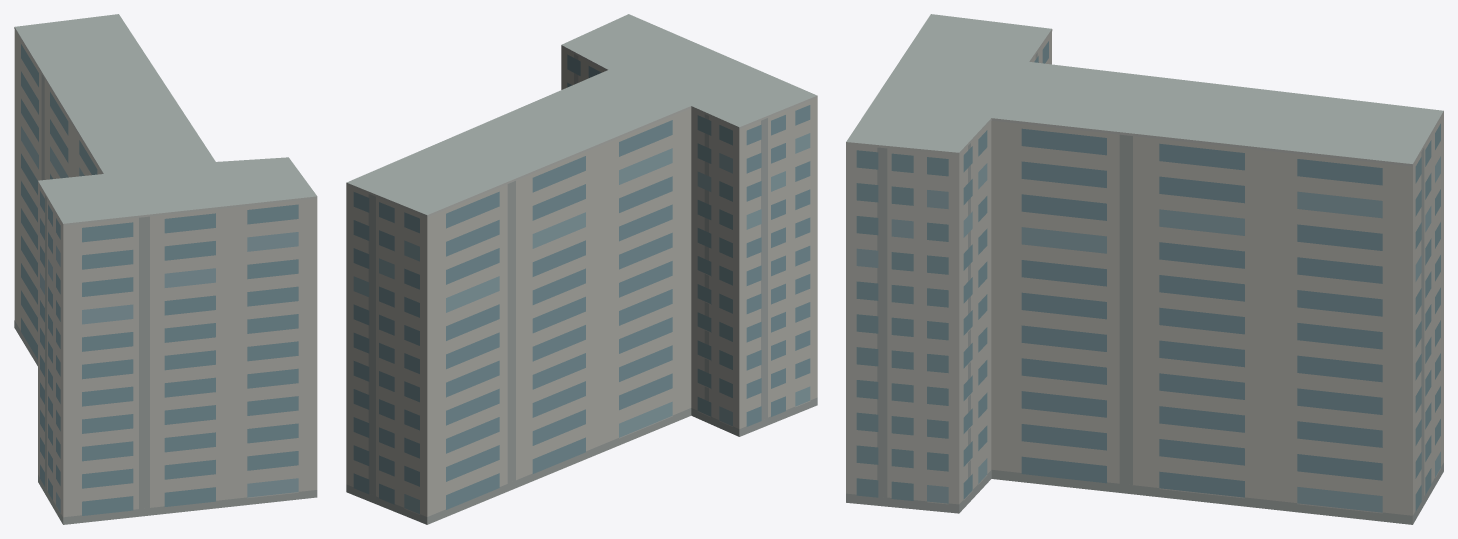
File: residential-7ca1c89c-8e0d-4334-bc27-68e58cc0cdd6.glb
The picture shows the model from 3 angles, left to right: view 1: azimuth 30°, elevation 25°; view 2: azimuth 150°, elevation 25°; view 3: azimuth 270°, elevation 25°; orthographic projection. The views are drawn at different scales.
Parts seen in each view (by area): view 1: residential-7ca1c89c-8e0d-4334-bc27-68e58cc0cdd6.tmp; view 2: residential-7ca1c89c-8e0d-4334-bc27-68e58cc0cdd6.tmp; view 3: residential-7ca1c89c-8e0d-4334-bc27-68e58cc0cdd6.tmp.
Part boxes in pixels (x1,y1,x2,y2): residential-7ca1c89c-8e0d-4334-bc27-68e58cc0cdd6.tmp: (14, 14, 317, 524); residential-7ca1c89c-8e0d-4334-bc27-68e58cc0cdd6.tmp: (346, 14, 817, 524); residential-7ca1c89c-8e0d-4334-bc27-68e58cc0cdd6.tmp: (846, 14, 1443, 524).
Size of the model in its own units: 31.25 by 35 by 52.57.
